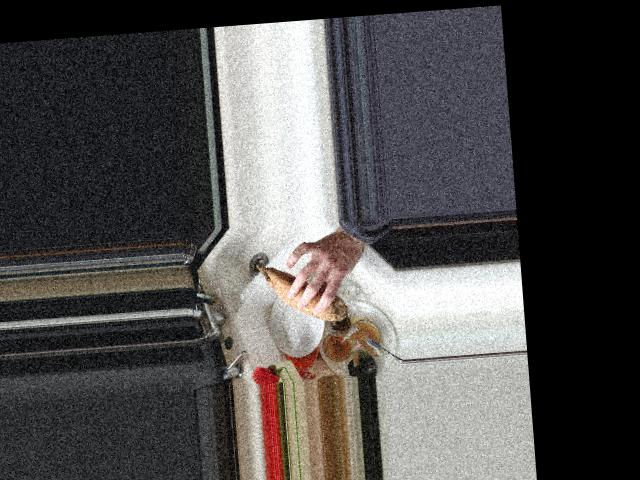sweet_potato: (255, 257, 347, 327)
